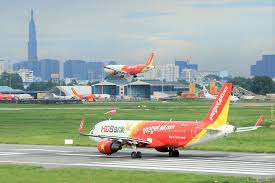maybay_dansu: (75, 90, 263, 157), (96, 51, 161, 83)
